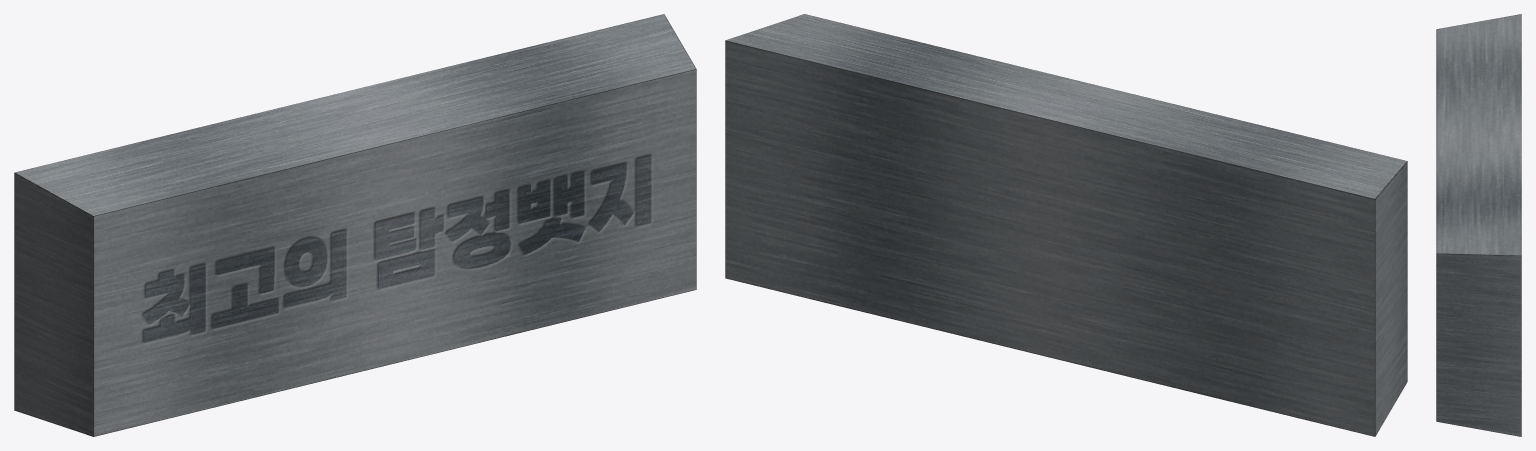
Rendered from silver.fbx.
The picture shows the model from 3 angles, left to right: view 1: azimuth 30°, elevation 25°; view 2: azimuth 150°, elevation 25°; view 3: azimuth 270°, elevation 25°; orthographic projection. The views are drawn at different scales.
Visible parts, largest first — view 1: pCube1; view 2: pCube1; view 3: pCube1.
Part boxes in pixels (box(x1,y1,x2,y2)): pCube1: box(14, 14, 696, 436); pCube1: box(725, 14, 1407, 436); pCube1: box(1436, 14, 1521, 436).
Size of the model in its own units: 1.6 by 0.5592 by 0.238.
